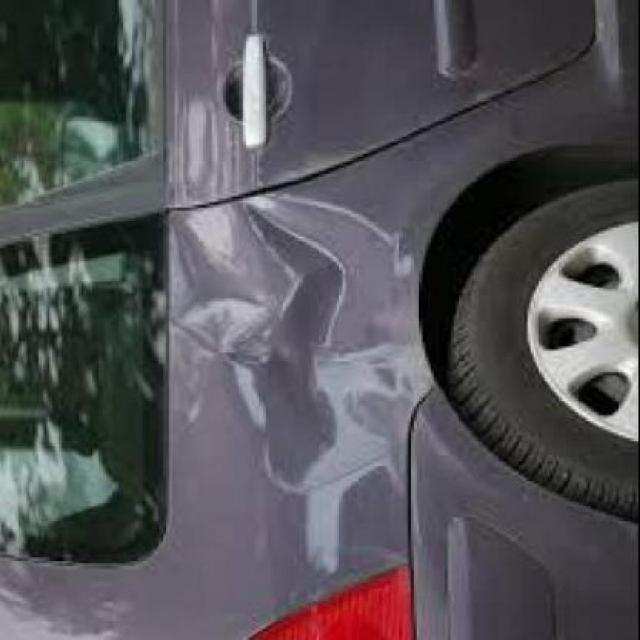damage: (174, 182, 444, 496)
